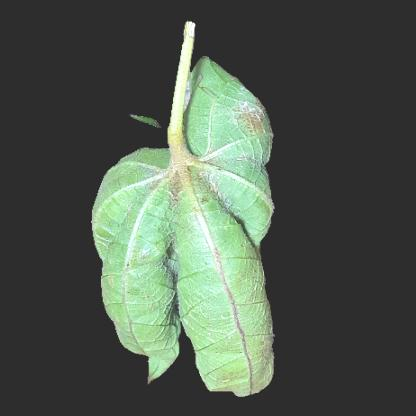curl_stage2: (107, 197, 259, 281), (202, 296, 262, 386), (118, 285, 179, 349)
